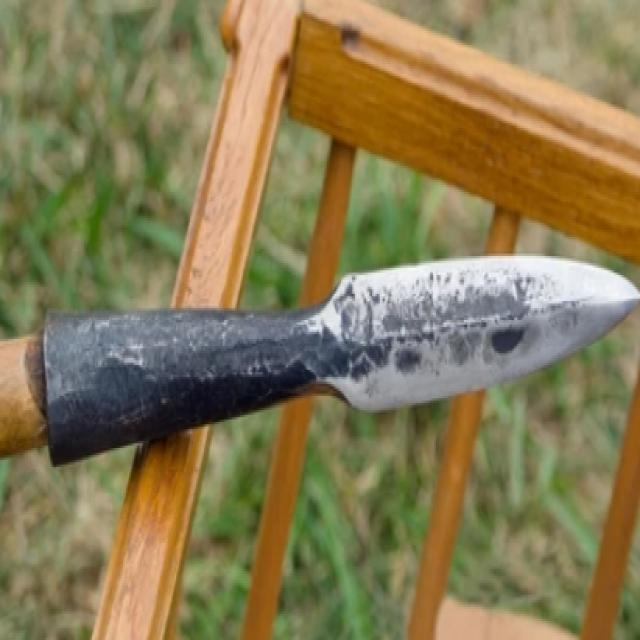spear: (1, 216, 638, 474)
